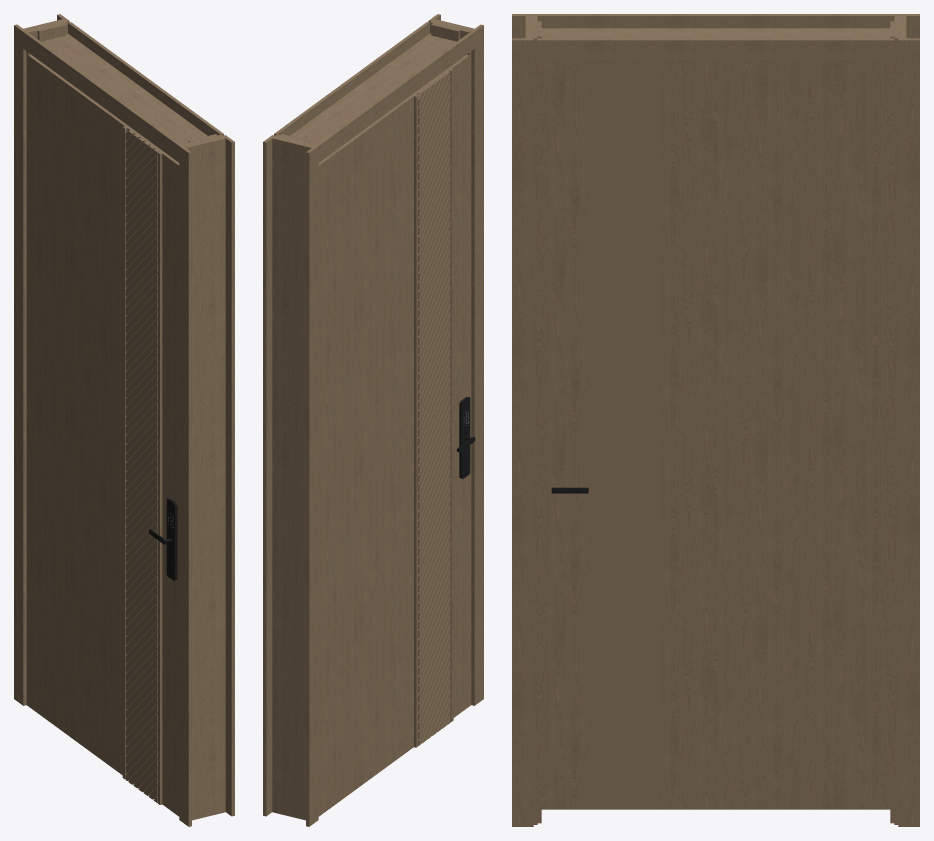
File: twoUntitled.gltf
3 views of the same model, side by side, from view 1: azimuth 30°, elevation 25°; view 2: azimuth 150°, elevation 25°; view 3: azimuth 270°, elevation 25° (orthographic). The views are drawn at different scales.
Parts seen in each view (by area): view 1: root, object 82, object 84, object 83, object 2, object 81, archibd _ Door lock _ P _ 2; view 2: root, object 84, object 82, object 83, object 81, object 2, archibd _ Door lock _ P _ 2; view 3: root, object 3, object 82, object 84, object 83.
Part boxes in pixels (bbox=[...]): root: bbox=[28, 54, 179, 816]; object 82: bbox=[179, 134, 234, 826]; object 84: bbox=[14, 14, 69, 705]; object 83: bbox=[23, 22, 223, 162]; object 2: bbox=[157, 152, 162, 804]; object 81: bbox=[122, 126, 127, 779]; archibd _ Door lock _ P _ 2: bbox=[166, 498, 175, 580]; root: bbox=[318, 54, 469, 816]; object 84: bbox=[263, 134, 318, 826]; object 82: bbox=[428, 14, 483, 705]; object 83: bbox=[274, 22, 474, 162]; object 81: bbox=[414, 95, 418, 747]; object 2: bbox=[449, 69, 453, 721]; archibd _ Door lock _ P _ 2: bbox=[461, 397, 470, 479]; root: bbox=[541, 63, 890, 809]; object 3: bbox=[588, 63, 661, 809]; object 82: bbox=[512, 14, 541, 826]; object 84: bbox=[890, 14, 919, 826]; object 83: bbox=[533, 14, 898, 63].
Size of the model in its own units: 0.217 by 2.6 by 1.22.
6 materials, 5 textured.
